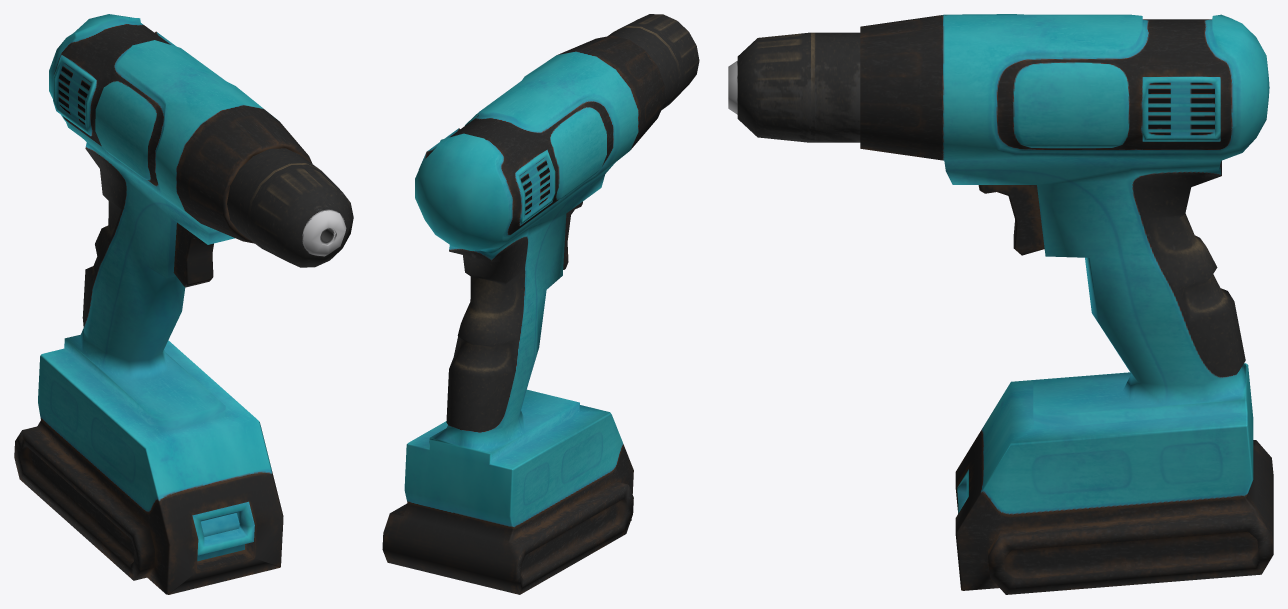
The model's file is Drill.fbx.
3 renders of one model, left to right at view 1: azimuth 30°, elevation 25°; view 2: azimuth 150°, elevation 25°; view 3: azimuth 270°, elevation 25°, orthographic. The views are drawn at different scales.
Visible parts, largest first — view 1: Body.001; view 2: Body.001; view 3: Body.001.
Boxes of the visible parts, x1,y1,x2,y2 form: Body.001: (14, 14, 353, 594); Body.001: (382, 14, 699, 594); Body.001: (728, 14, 1273, 594).
Bounding box in the file's own units: 0.0832 × 0.2688 × 0.2471.
Materials: 1 (1 with a texture image).
